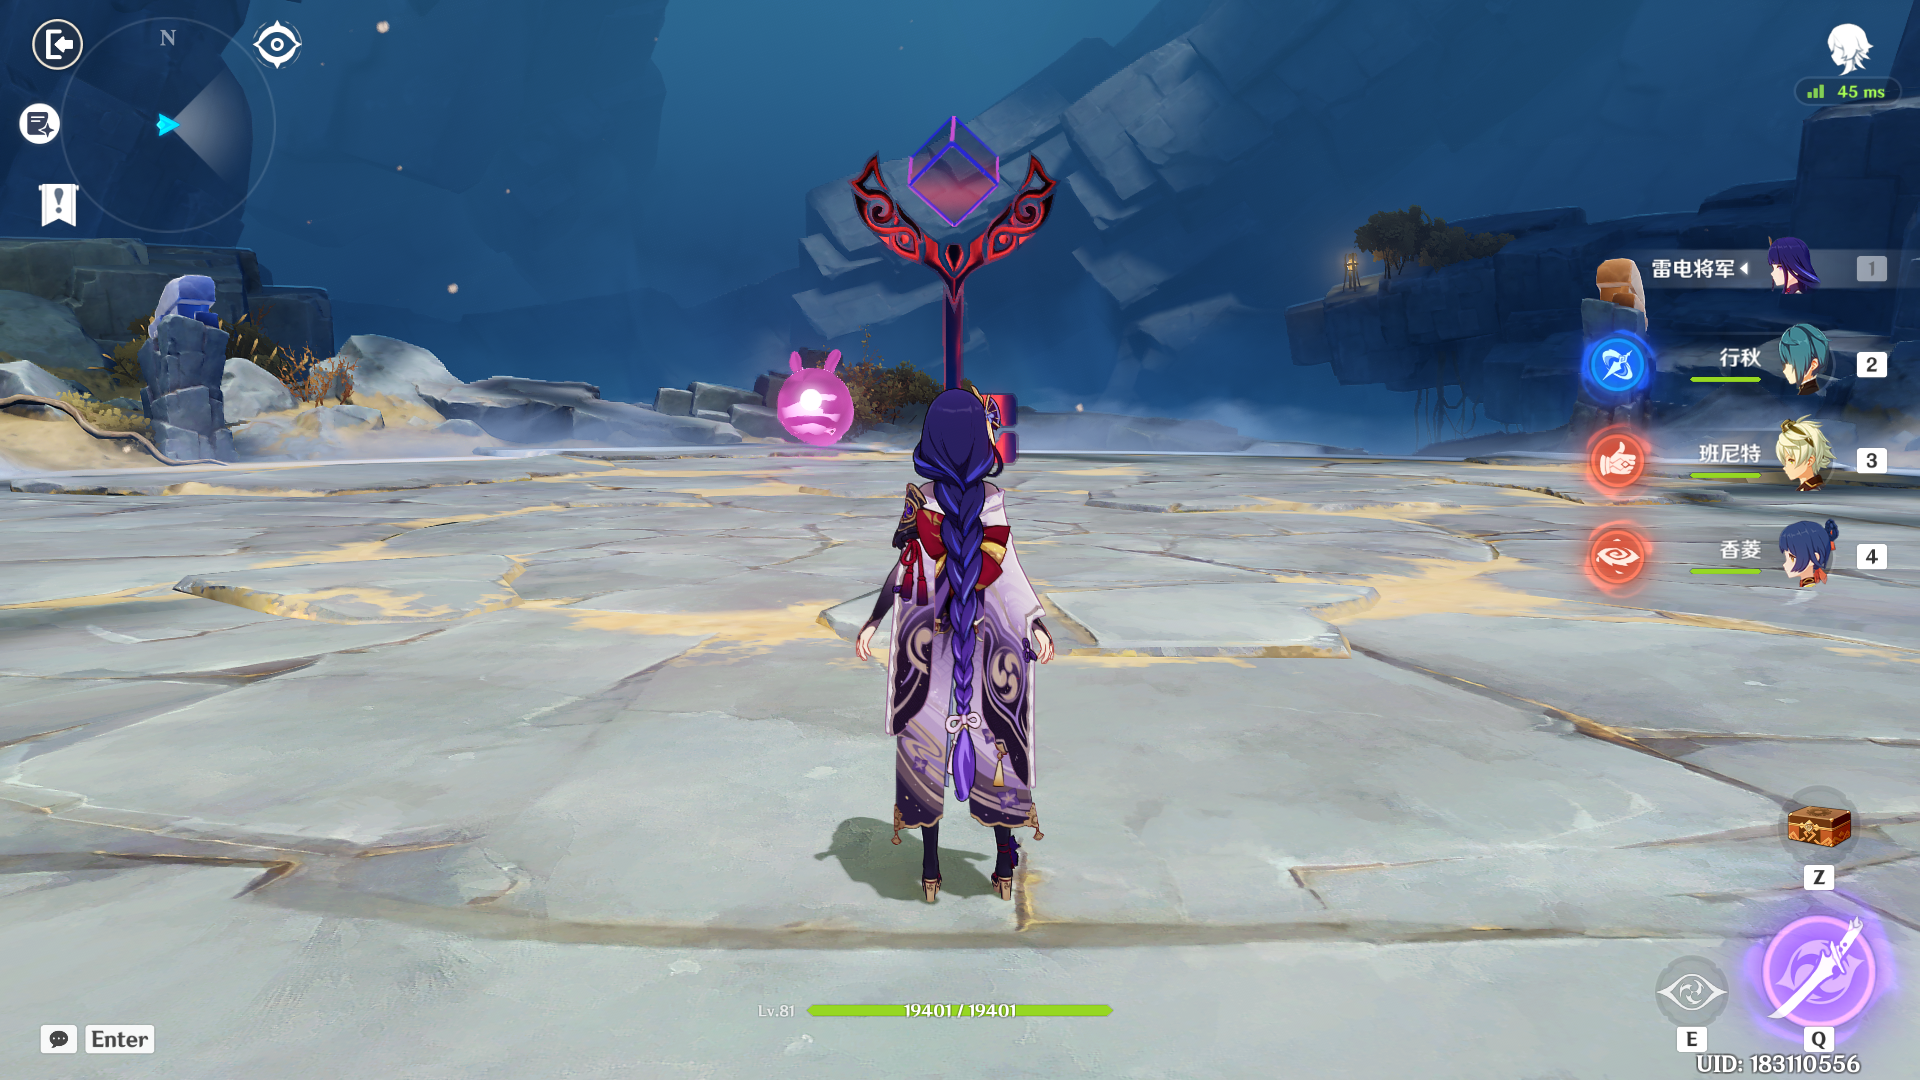character: (812, 378, 1126, 919)
